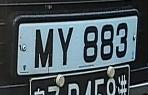3: (115, 18, 129, 62)
8: (82, 23, 100, 65), (99, 21, 115, 63)
M: (32, 22, 56, 76)
Y: (55, 24, 76, 69)
